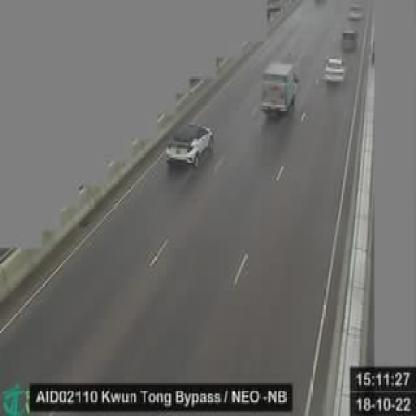Car: (164, 122, 216, 173), (323, 56, 346, 87), (340, 28, 359, 53), (347, 2, 366, 21)
Truck: (260, 60, 300, 121)
